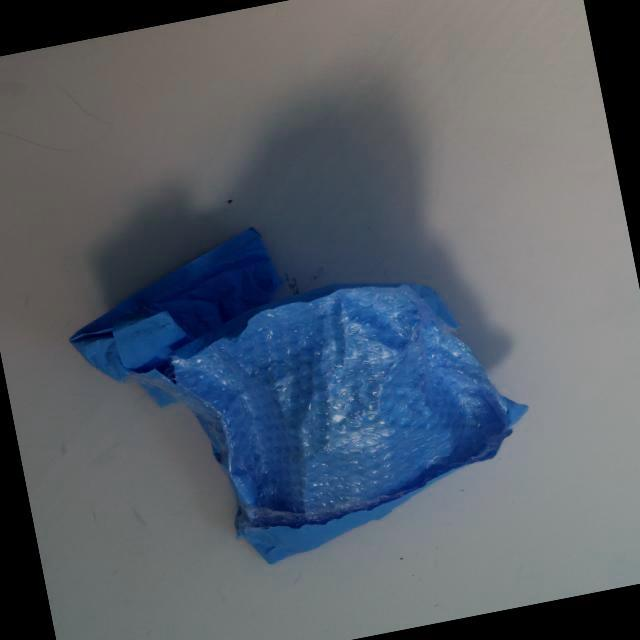paper: (63, 184, 550, 584)
plastic: (220, 284, 450, 512)
